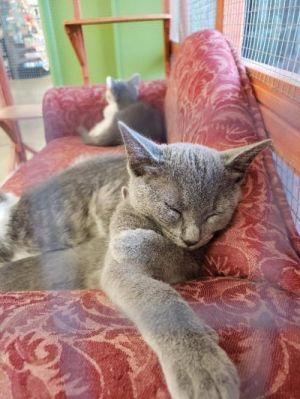rblue: (111, 115, 269, 275)
